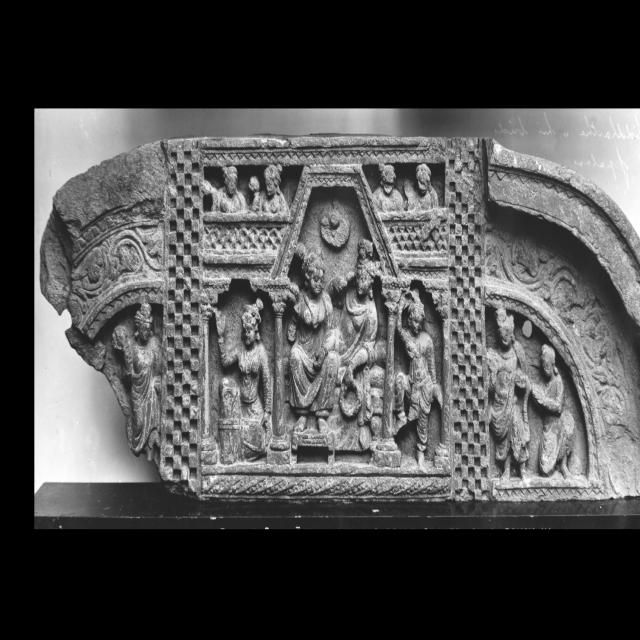buddha-sitting: (330, 238, 379, 449)
